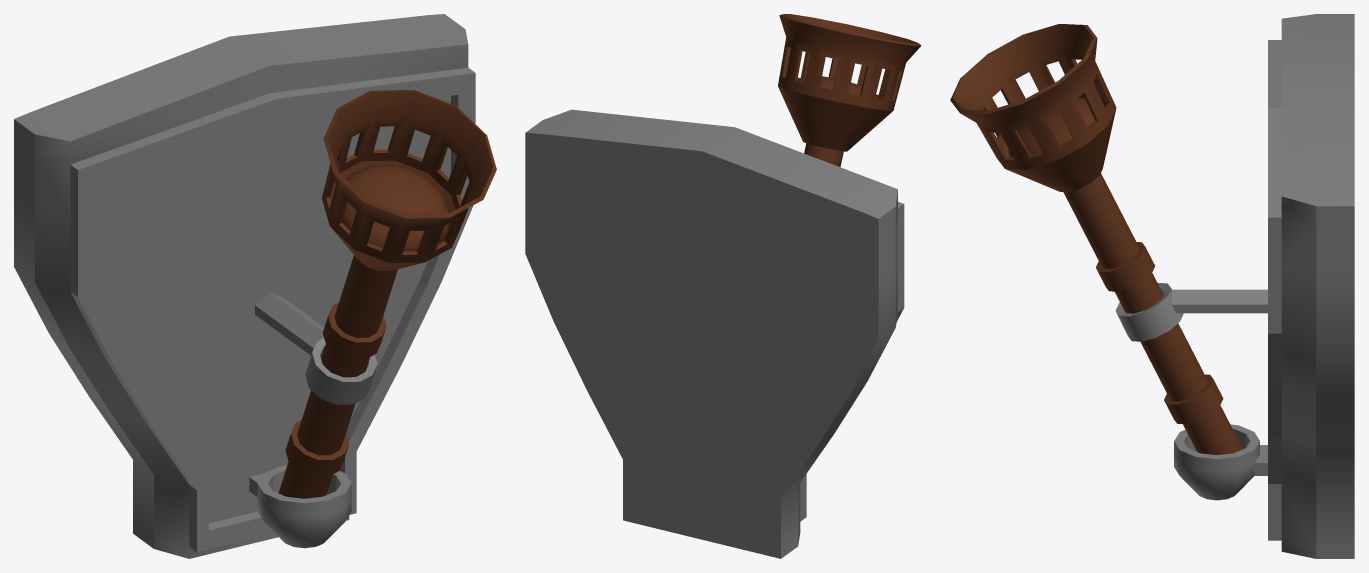
File: AntorchaConBase.fbx
The picture shows the model from 3 angles, left to right: view 1: azimuth 30°, elevation 25°; view 2: azimuth 150°, elevation 25°; view 3: azimuth 270°, elevation 25°; orthographic projection. The views are drawn at different scales.
Visible parts, largest first — view 1: BaseAntorcha, Cylinder001; view 2: BaseAntorcha, Cylinder001; view 3: BaseAntorcha, Cylinder001.
Boxes of the visible parts, x1=… form: BaseAntorcha: x1=14, y1=14, x2=475, y2=558; Cylinder001: x1=278, y1=89, x2=496, y2=498; BaseAntorcha: x1=525, y1=109, x2=904, y2=558; Cylinder001: x1=778, y1=14, x2=921, y2=167; BaseAntorcha: x1=1115, y1=14, x2=1354, y2=558; Cylinder001: x1=950, y1=24, x2=1242, y2=454.
Bounding box in the file's own units: 31.71 × 36.79 × 28.21.
